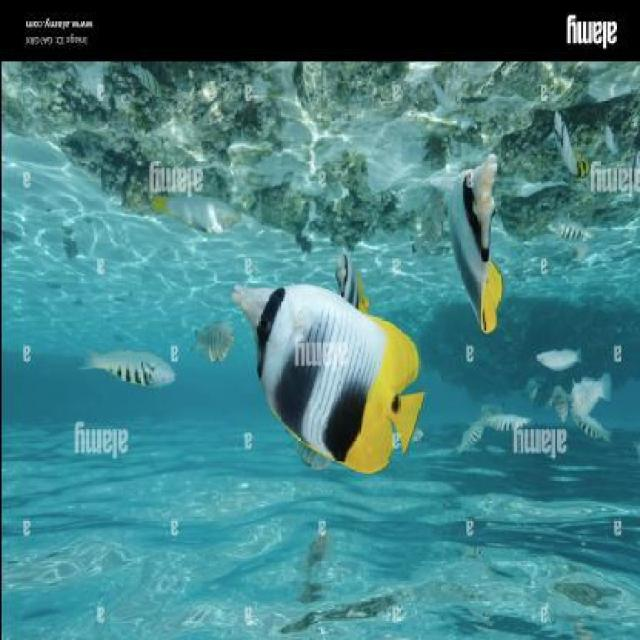ButterflyFish: (229, 282, 428, 480)
